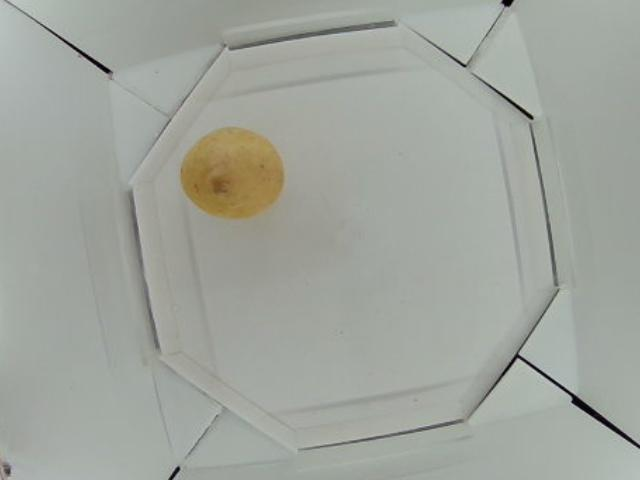Potato: (180, 126, 280, 218)
